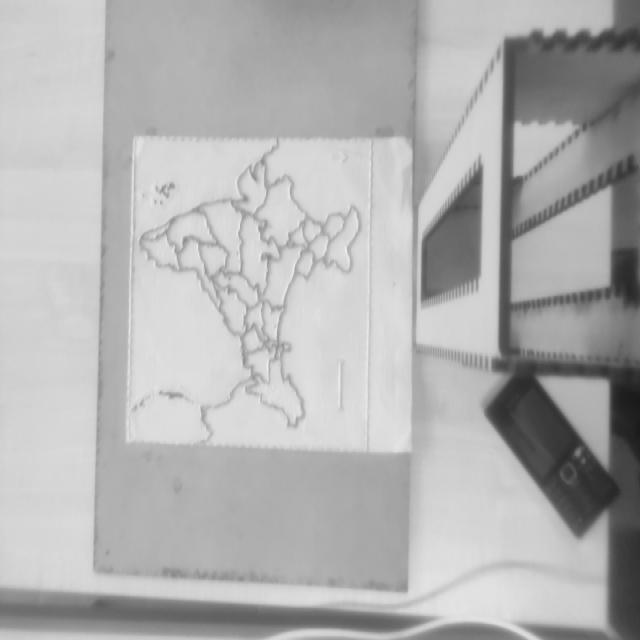map: (127, 135, 372, 451)
